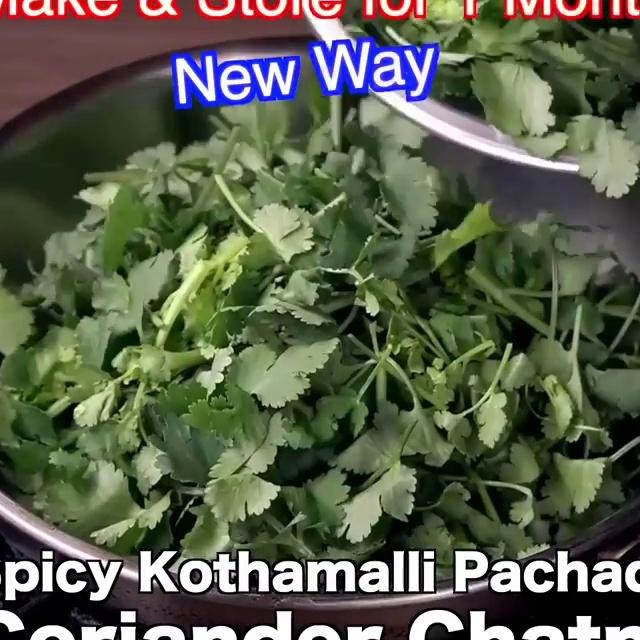cilantro: (0, 162, 640, 533)
